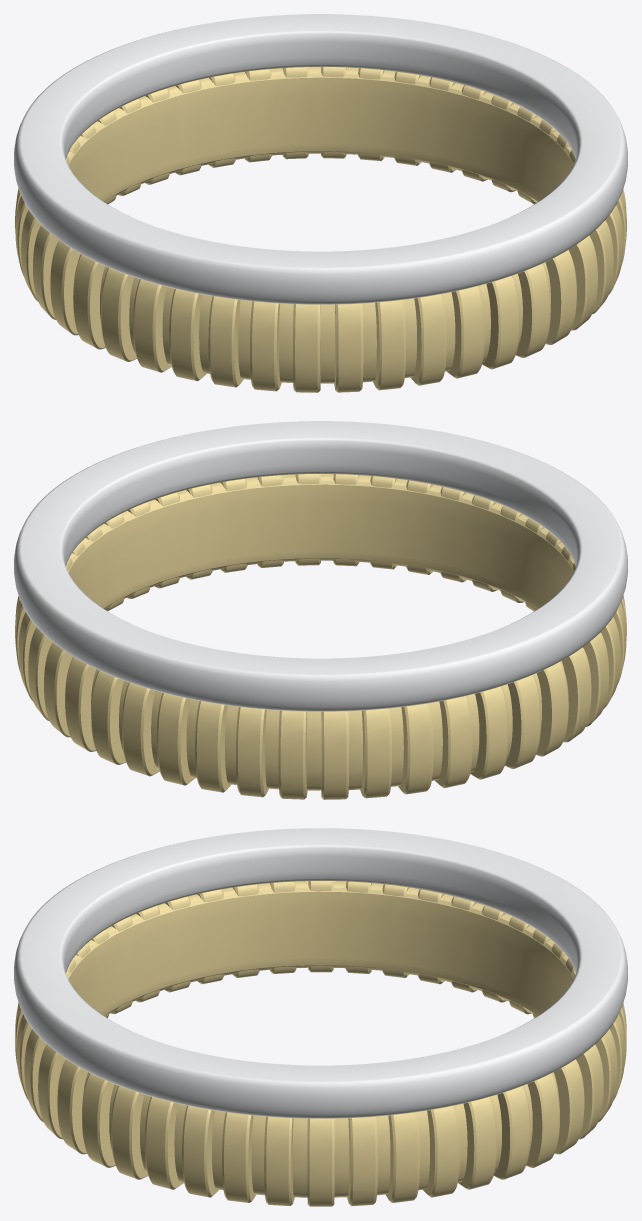
3 views of the same model, one above another, from view 1: azimuth 30°, elevation 25°; view 2: azimuth 150°, elevation 25°; view 3: azimuth 270°, elevation 25° (orthographic).
Parts seen in each view (by area): view 1: Base_Metal, Finishing_Metal, Engraving_Metal; view 2: Base_Metal, Finishing_Metal, Engraving_Metal; view 3: Base_Metal, Finishing_Metal, Engraving_Metal.
Part boxes in pixels (left/top/right/bottom): Base_Metal: left=14, top=14, right=627, bottom=304; Finishing_Metal: left=15, top=67, right=626, bottom=392; Engraving_Metal: left=68, top=77, right=573, bottom=201; Base_Metal: left=14, top=421, right=627, bottom=711; Finishing_Metal: left=15, top=474, right=626, bottom=799; Engraving_Metal: left=68, top=484, right=573, bottom=608; Base_Metal: left=14, top=828, right=627, bottom=1118; Finishing_Metal: left=15, top=881, right=626, bottom=1206; Engraving_Metal: left=68, top=892, right=573, bottom=1015.
Bounding box in the file's own units: 1.8 × 0.4205 × 1.8.
